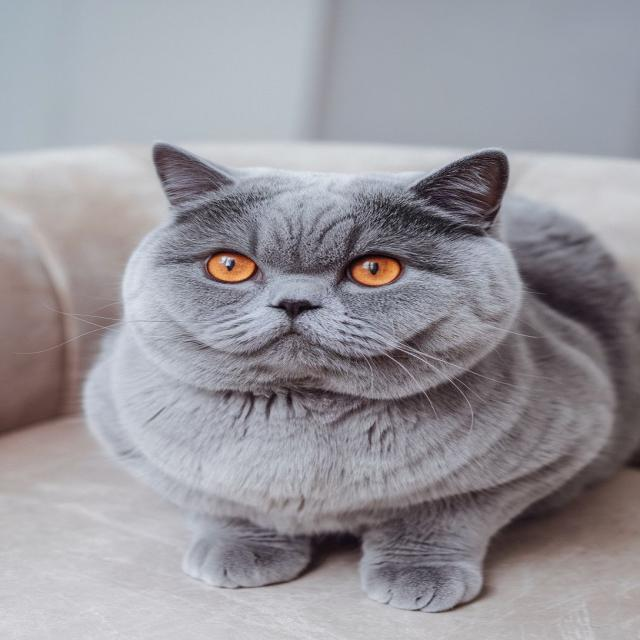british shorthair: (0, 66, 640, 570)
